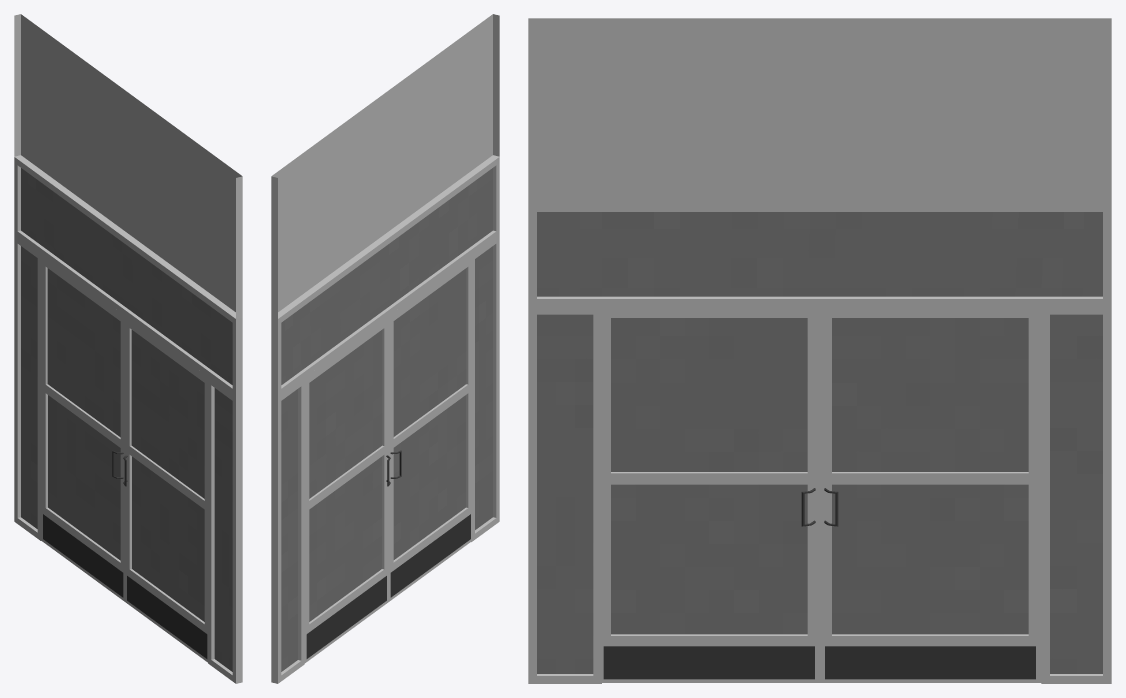
File: SW_corridor__R_lobby_R_Aula_Kautava1_Ikkuna_005.FBX
The picture shows the model from 3 angles, left to right: view 1: azimuth 30°, elevation 25°; view 2: azimuth 150°, elevation 25°; view 3: azimuth 270°, elevation 25°; orthographic projection. The views are drawn at different scales.
Parts seen in each view (by area): view 1: SW_corridor__R_lobby_R_Aula_Kautava1_Ikkuna_005; view 2: SW_corridor__R_lobby_R_Aula_Kautava1_Ikkuna_005; view 3: SW_corridor__R_lobby_R_Aula_Kautava1_Ikkuna_005.
Part boxes in pixels (x1,y1,x2,y2): SW_corridor__R_lobby_R_Aula_Kautava1_Ikkuna_005: [14, 14, 242, 683]; SW_corridor__R_lobby_R_Aula_Kautava1_Ikkuna_005: [271, 14, 499, 683]; SW_corridor__R_lobby_R_Aula_Kautava1_Ikkuna_005: [528, 18, 1111, 683].
Bounding box in the file's own units: 14.61 × 287 × 361.
